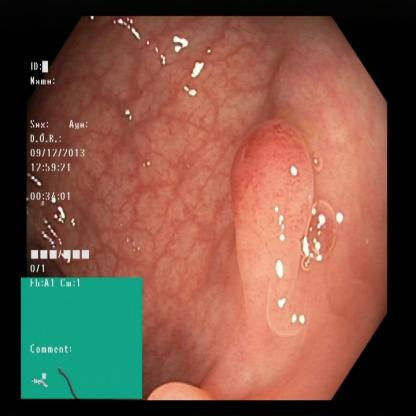Labels: (29, 56, 104, 272), (22, 275, 145, 401)
Polyps: (233, 126, 316, 292)
